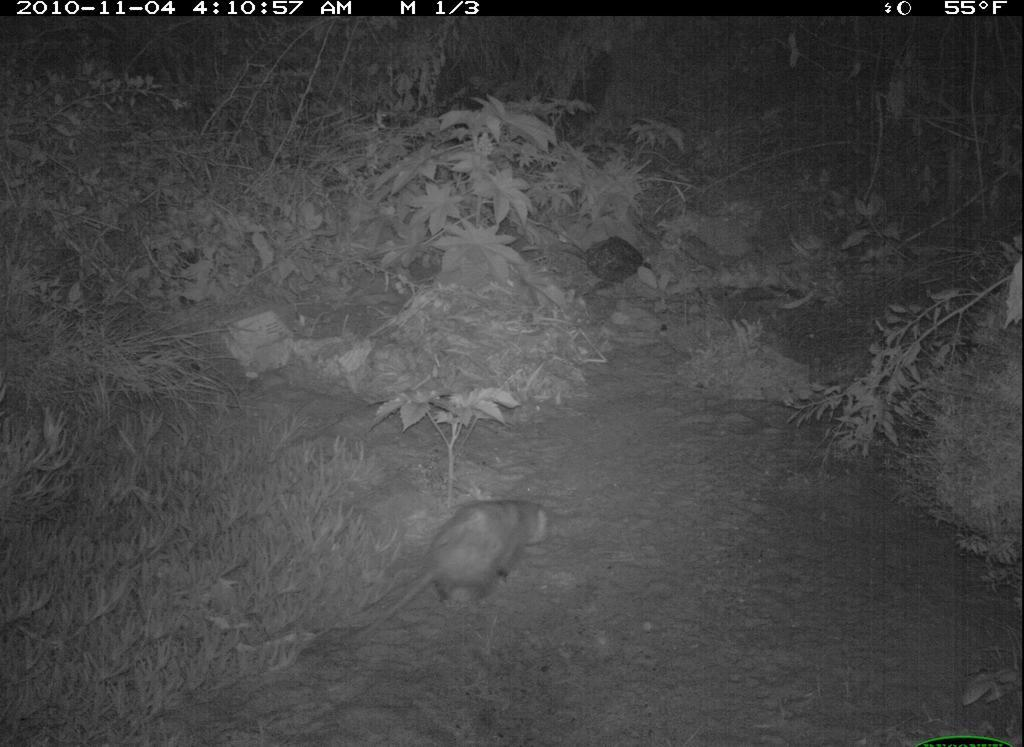opossum: (345, 483, 569, 655)
